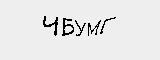Б: (61, 17, 75, 37)
Г: (100, 16, 116, 37)
М: (88, 19, 99, 37)
У: (75, 20, 86, 36)
Ч: (42, 16, 59, 39)
